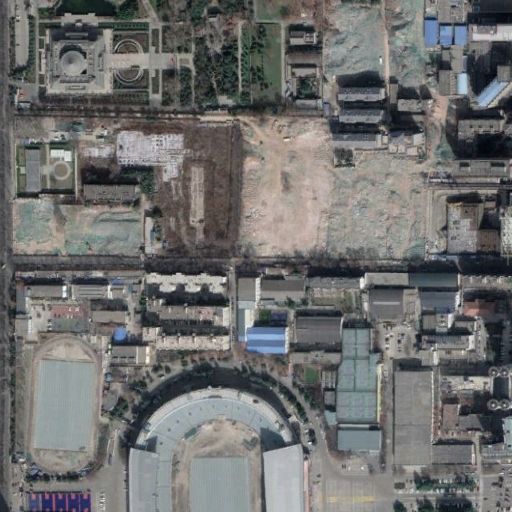cw: (237, 113, 430, 262), (324, 1, 424, 109), (10, 195, 141, 253)
